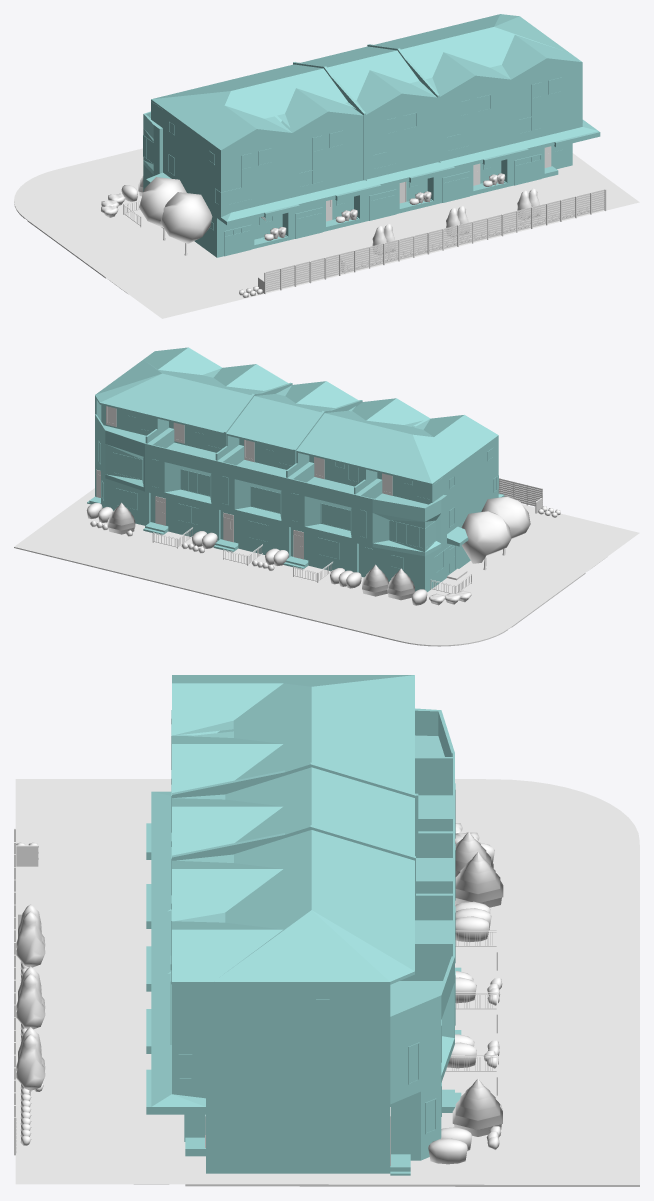
Rendered from windsor_cyan_nolocation.glb.
3 views of the same model, one above another, from view 1: azimuth 30°, elevation 25°; view 2: azimuth 150°, elevation 25°; view 3: azimuth 270°, elevation 25° (orthographic). The views are drawn at different scales.
Visible parts, largest first — view 1: Geom3D_ (×16), Geom3D_Component#75 (×5), Geom3D_wood board#2 (×10), Geom3D_SITE CONTEXT#5, Geom3D_Deciduous Tree 030: Elm (×2), Geom3D_Component#76, Geom3D_Component#79; view 2: Geom3D_ (×14), Geom3D_Component#75 (×5), Geom3D_SITE CONTEXT#5, Geom3D_Deciduous Tree 030: Elm (×2), Geom3D_Coniferous Tree 002: Fir (×3), Geom3D_Component#79, Geom3D_Component#76; view 3: Geom3D_ (×10), Geom3D_Component#75 (×5), Geom3D_Coniferous Tree 002: Fir (×3), Geom3D_Coniferous Tree 015: Spruce (×3), Geom3D_Component#76, Geom3D_Component#79, Geom3D_SITE CONTEXT#5, Geom3D_Bush 007: Tiny (×2).
Boxes of the visible parts, x1,y1,x2,y2 form: Geom3D_ (×16): (14,14,639,318); Geom3D_Component#75 (×5): (187,35,582,151); Geom3D_wood board#2 (×10): (265,189,604,292); Geom3D_SITE CONTEXT#5: (41,189,173,272); Geom3D_Deciduous Tree 030: Elm (×2): (139,177,212,255); Geom3D_Component#76: (293,62,365,222); Geom3D_Component#79: (367,44,439,204); Geom3D_ (×14): (14,359,639,646); Geom3D_Component#75 (×5): (143,347,498,459); Geom3D_SITE CONTEXT#5: (374,553,568,625); Geom3D_Deciduous Tree 030: Elm (×2): (461,496,530,570); Geom3D_Coniferous Tree 002: Fir (×3): (107,502,414,600); Geom3D_Component#79: (213,382,292,540); Geom3D_Component#76: (283,400,362,557); Geom3D_ (×10): (15,675,639,1186); Geom3D_Component#75 (×5): (172,675,288,984); Geom3D_Coniferous Tree 002: Fir (×3): (452,831,503,1136); Geom3D_Coniferous Tree 015: Spruce (×3): (16,911,45,1095); Geom3D_Component#76: (172,762,454,857); Geom3D_Component#79: (172,825,454,920); Geom3D_SITE CONTEXT#5: (455,794,497,874); Geom3D_Bush 007: Tiny (×2): (428,916,489,1164).
Size of the model in its own units: 42.89 by 11.28 by 27.95.
